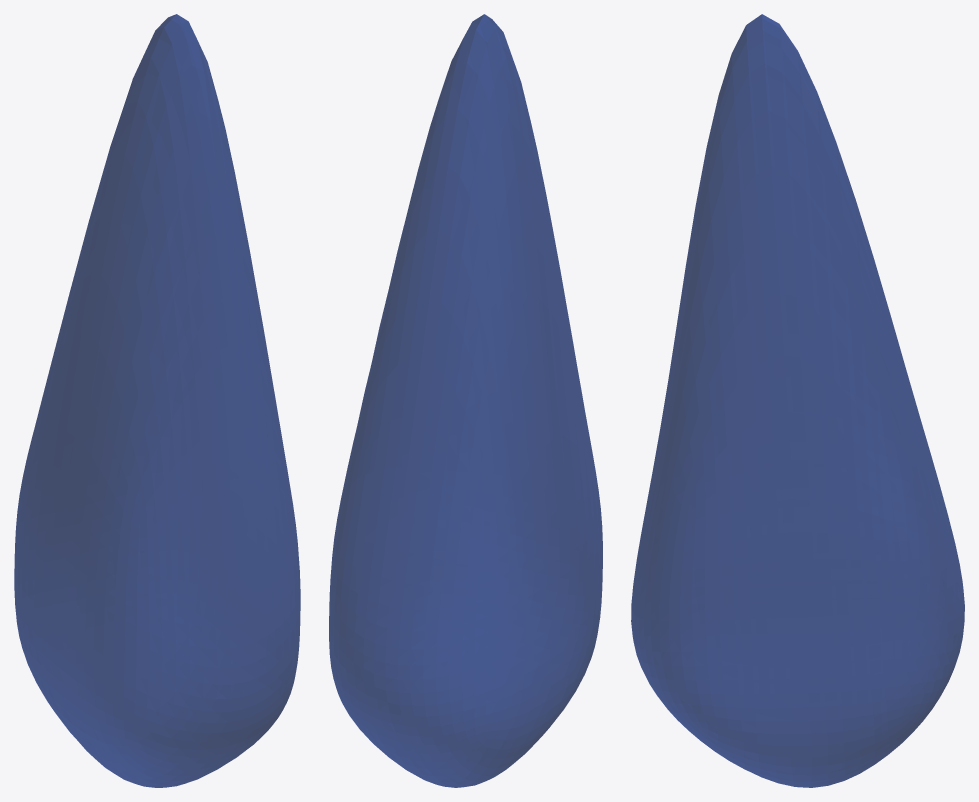
Rendered from raindrop.gltf.
The picture shows the model from 3 angles, left to right: view 1: azimuth 30°, elevation 25°; view 2: azimuth 150°, elevation 25°; view 3: azimuth 270°, elevation 25°; orthographic projection. The views are drawn at different scales.
Visible parts, largest first — view 1: node-0; view 2: node-0; view 3: node-0.
Boxes of the visible parts, x1=… form: node-0: x1=14, y1=14, x2=300, y2=787; node-0: x1=329, y1=14, x2=602, y2=787; node-0: x1=631, y1=14, x2=964, y2=787.
Size of the model in its own units: 0.0131 by 0.0501 by 0.0197.
